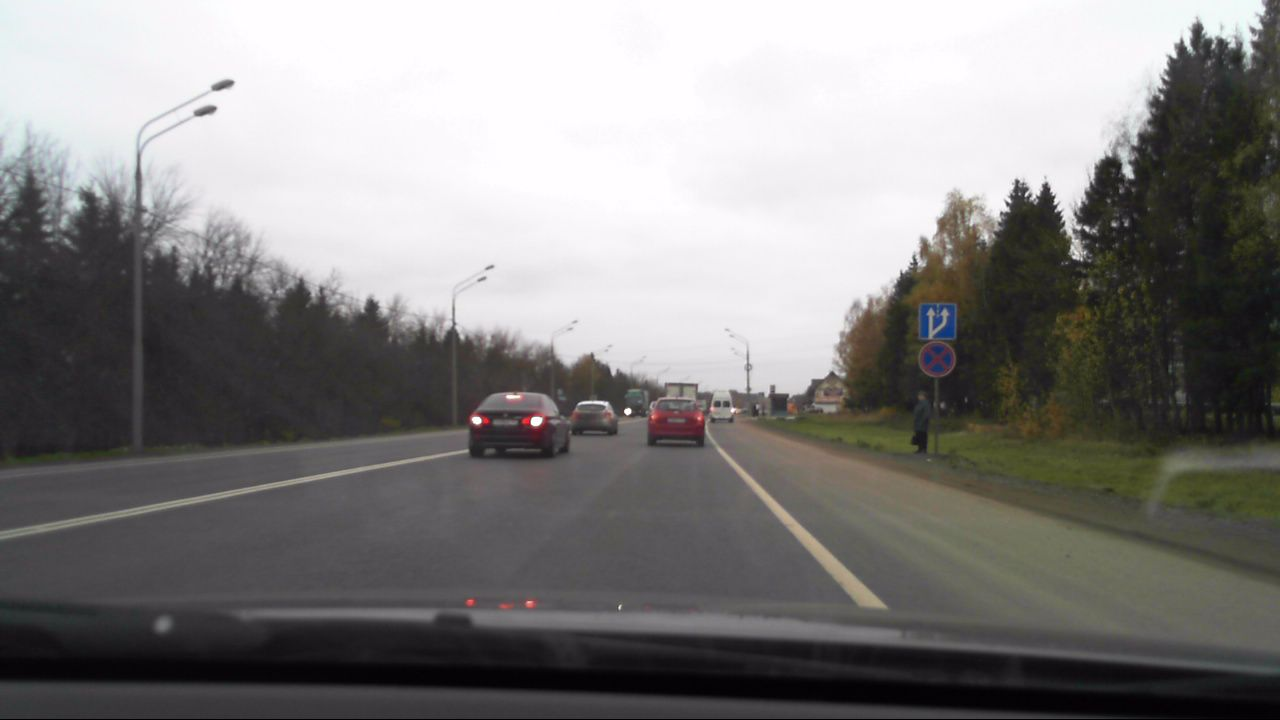No Parking: (916, 341, 958, 381)
